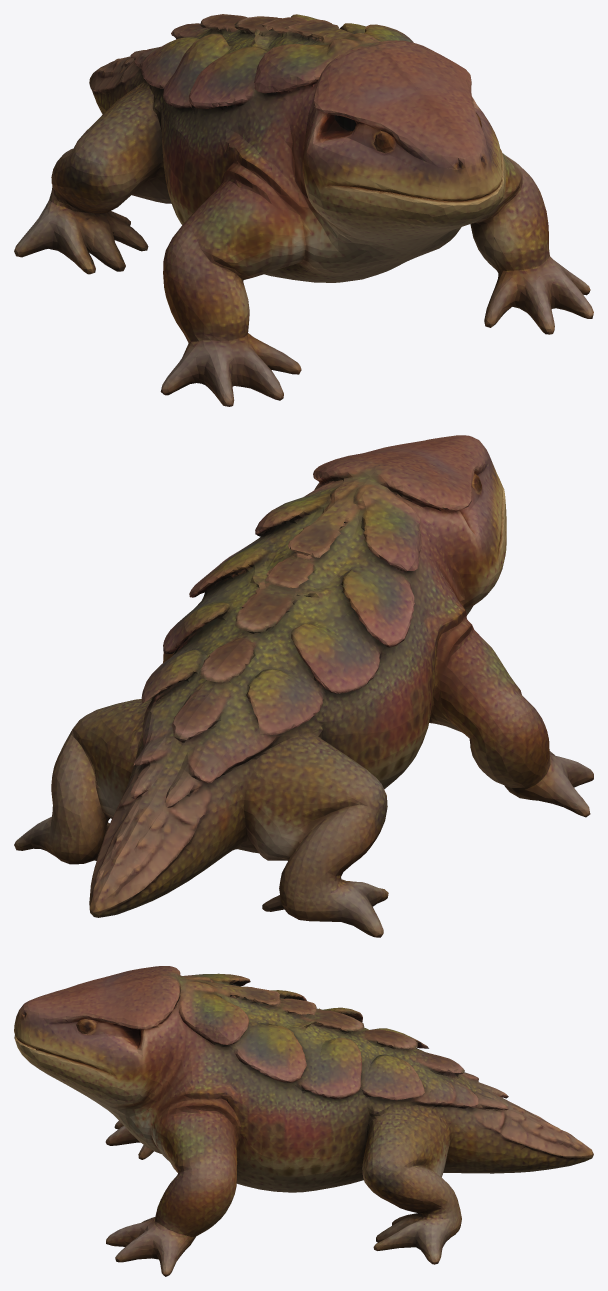
3 views of the same model, one above another, from view 1: azimuth 30°, elevation 25°; view 2: azimuth 150°, elevation 25°; view 3: azimuth 270°, elevation 25° (orthographic). The views are drawn at different scales.
Visible parts, largest first — view 1: world; view 2: world; view 3: world.
Part boxes in pixels (x1,y1,x2,y2): world: (14,14,593,406); world: (14,435,593,937); world: (14,966,593,1276).
Bounding box in the file's own units: 0.641 × 0.4303 × 1.
1 material, 1 textured.
